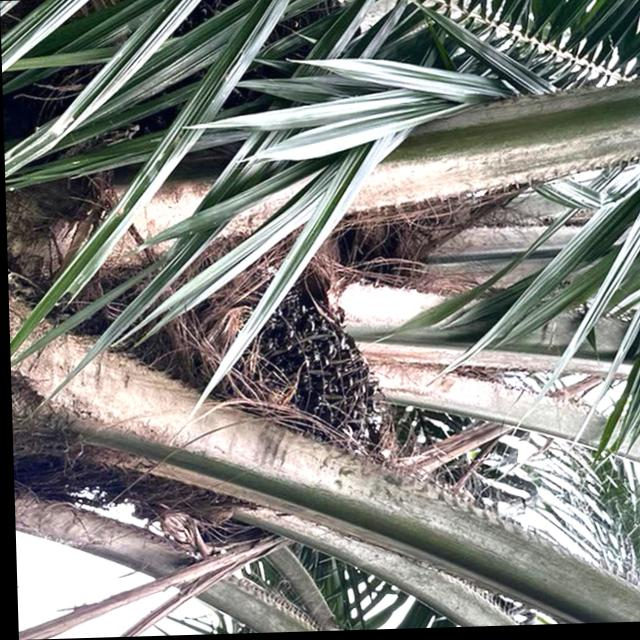unripe: (240, 277, 389, 468)
